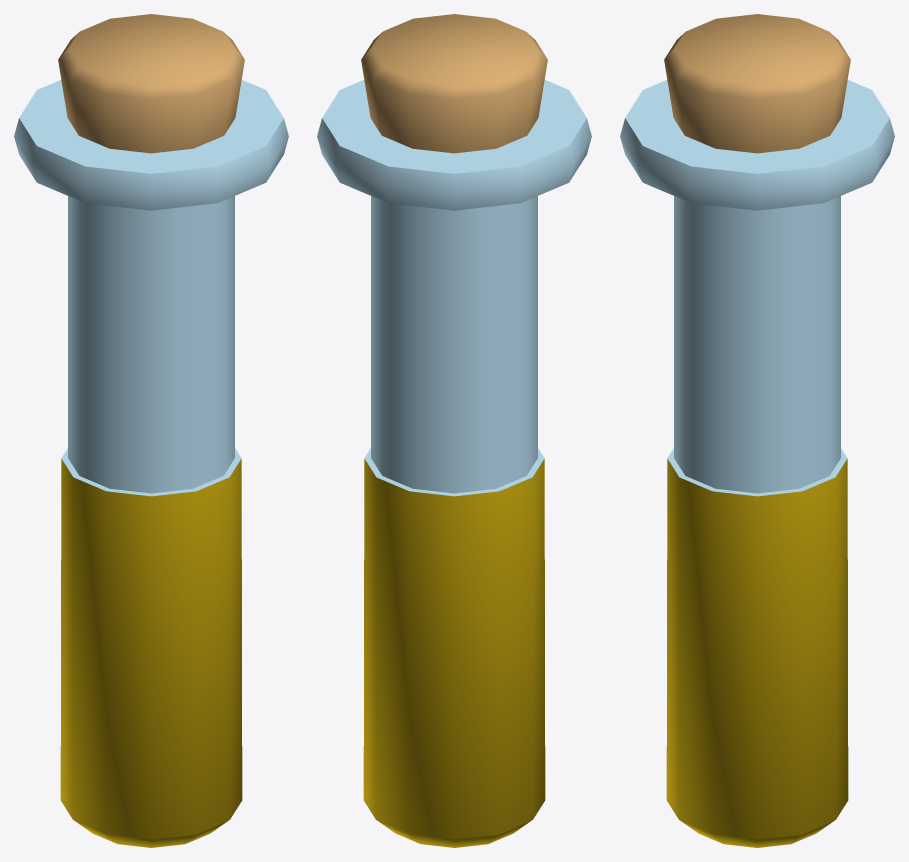
File: pocaoMana.fbx
3 renders of one model, left to right at view 1: azimuth 30°, elevation 25°; view 2: azimuth 150°, elevation 25°; view 3: azimuth 270°, elevation 25°, orthographic.
Visible parts, largest first — view 1: potionMana; view 2: potionMana; view 3: potionMana.
Part boxes in pixels (<box>): potionMana: <box>14,14,288,847</box>; potionMana: <box>317,14,591,847</box>; potionMana: <box>620,14,894,847</box>.
Bounding box in the file's own units: 25.82 × 79.83 × 25.82.
